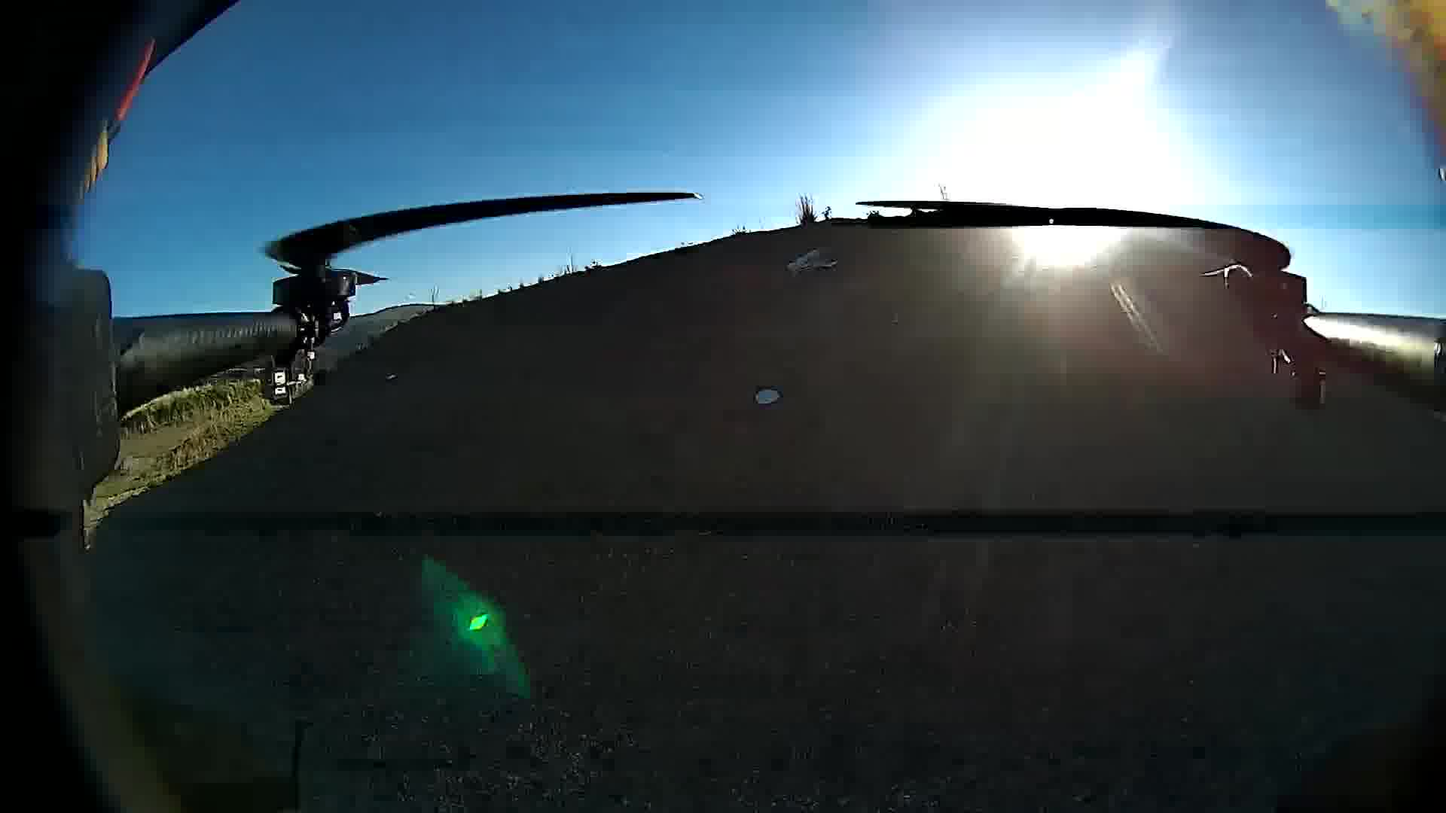Target: (755, 386, 780, 406)
